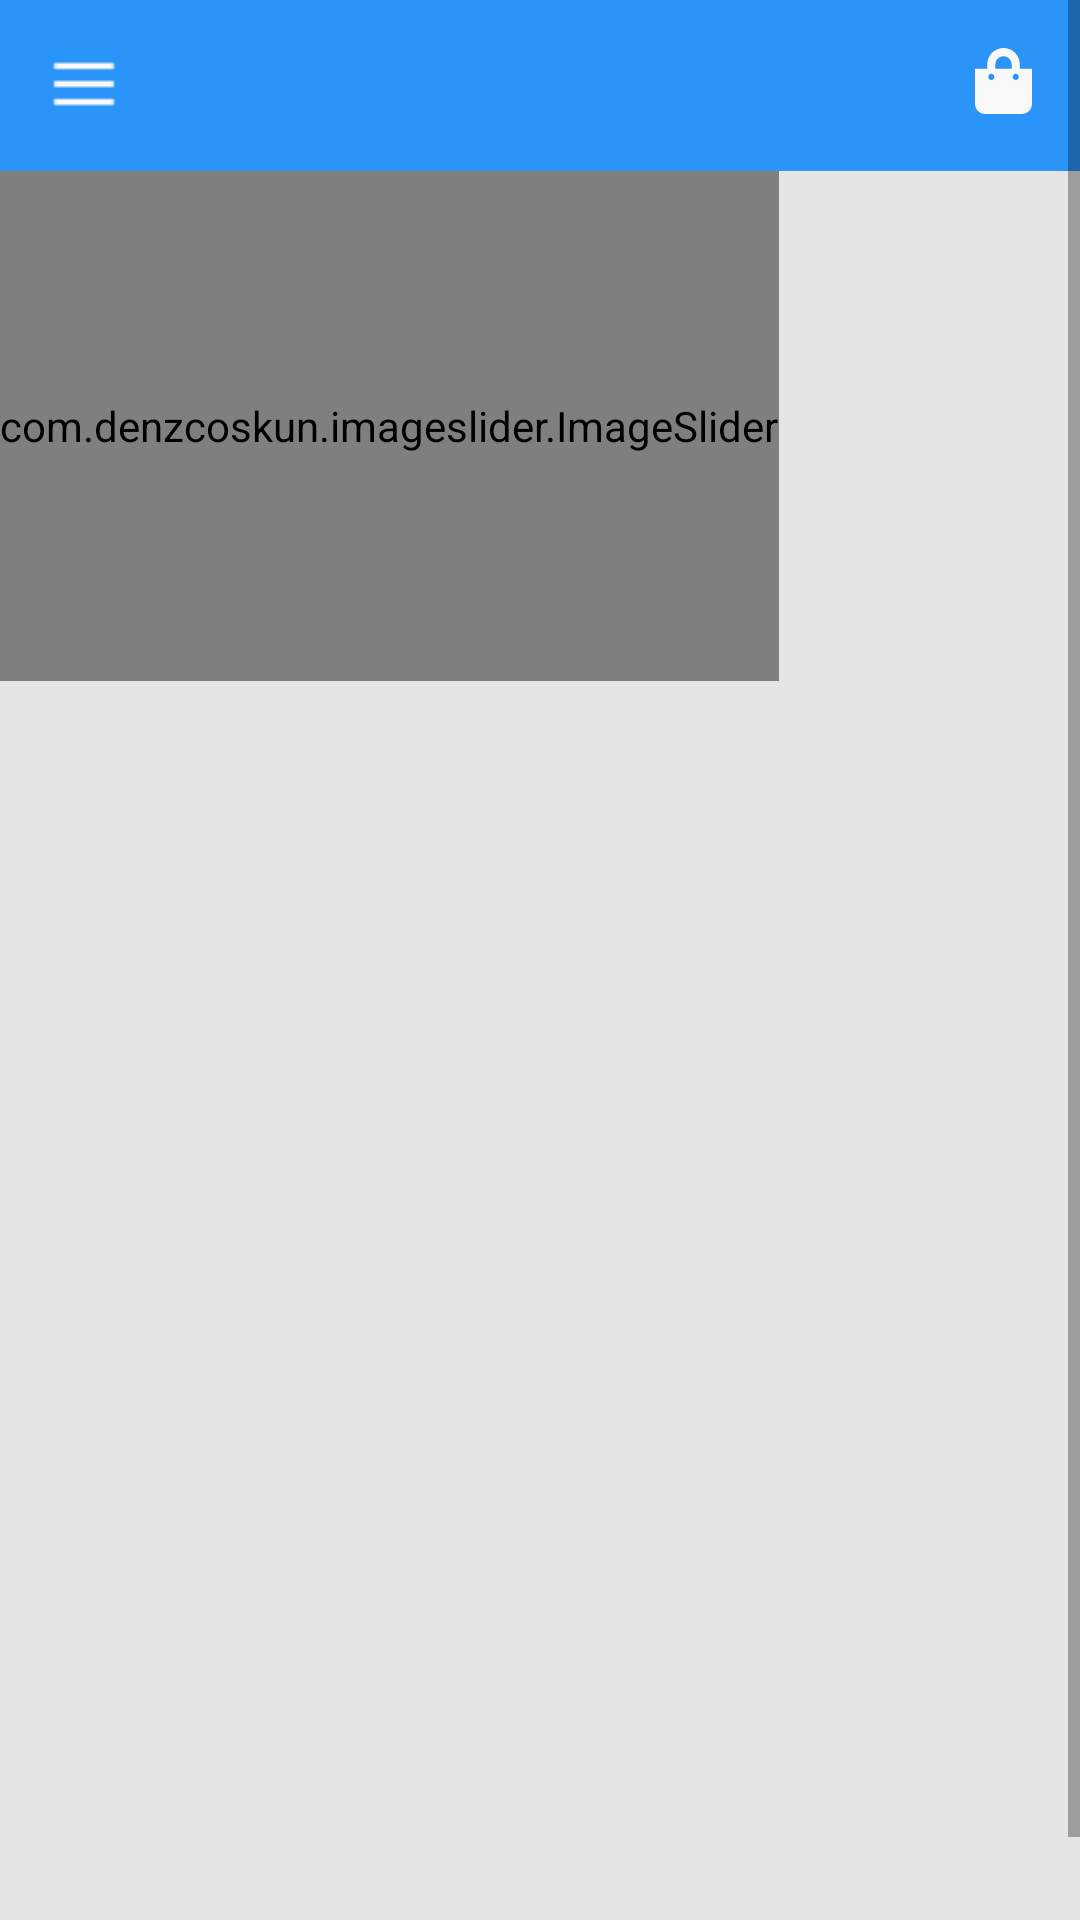

Icon click points for this 1080px x 1920px phone screenshot, format [x,y]:
shopping bag: [1003,81]
